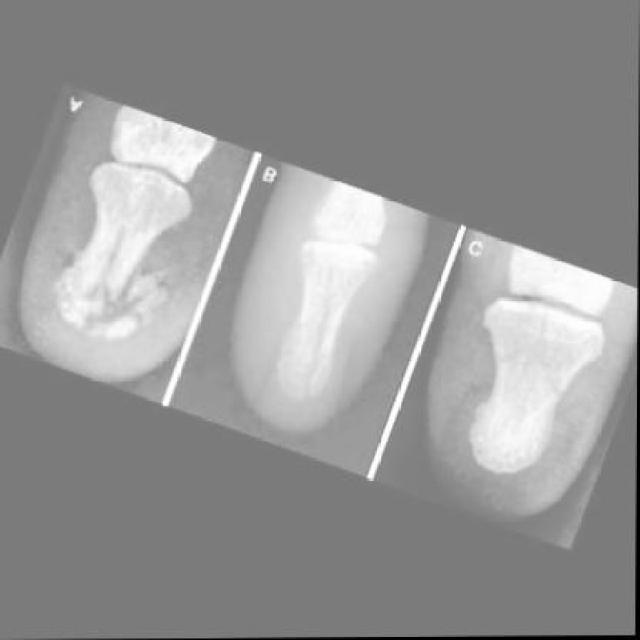Fracture: (31, 225, 185, 374), (480, 297, 596, 413), (259, 326, 341, 414)
